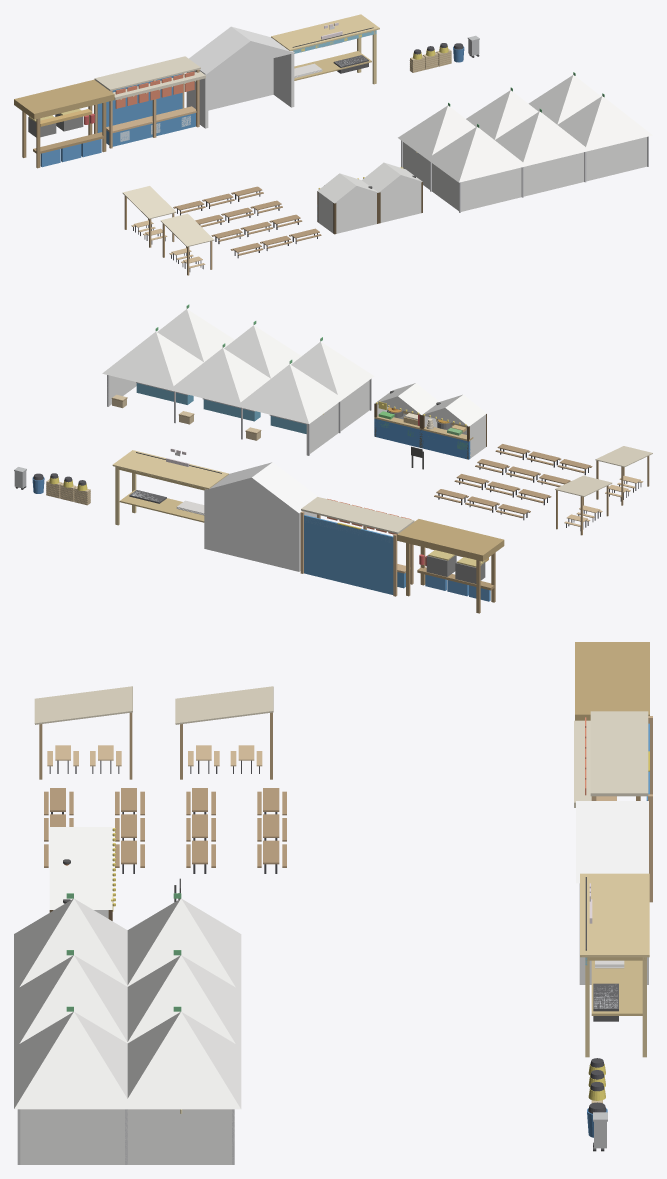
Rendered from F6_food.glb.
3 renders of one model, top to bottom at view 1: azimuth 30°, elevation 25°; view 2: azimuth 150°, elevation 25°; view 3: azimuth 270°, elevation 25°, orthographic. The views are drawn at different scales.
Parts seen in each view (by area): view 1: Geom3D (×40); view 2: Geom3D (×35); view 3: Geom3D (×31).
Boxes of the visible parts, x1,y1,x2,y2 form: Geom3D (×40): (14,14,652,246); Geom3D (×35): (102,309,652,594); Geom3D (×31): (14,642,649,1164).
Bounding box in the file's own units: 47.34 × 7.54 × 30.29.
